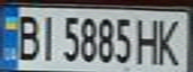5: (57, 12, 81, 63), (115, 15, 136, 64)
8: (78, 14, 100, 63), (97, 13, 118, 64)
B: (9, 10, 42, 62)
H: (133, 15, 163, 65)
I: (36, 11, 60, 62)
K: (154, 15, 187, 66)
